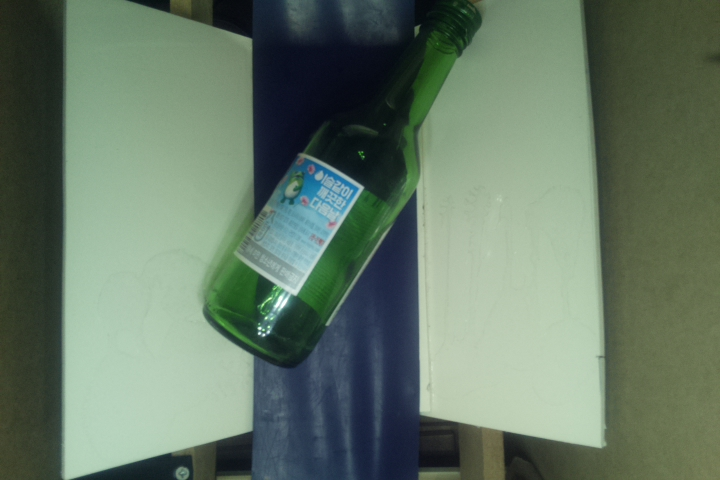soju: (203, 1, 483, 370)
